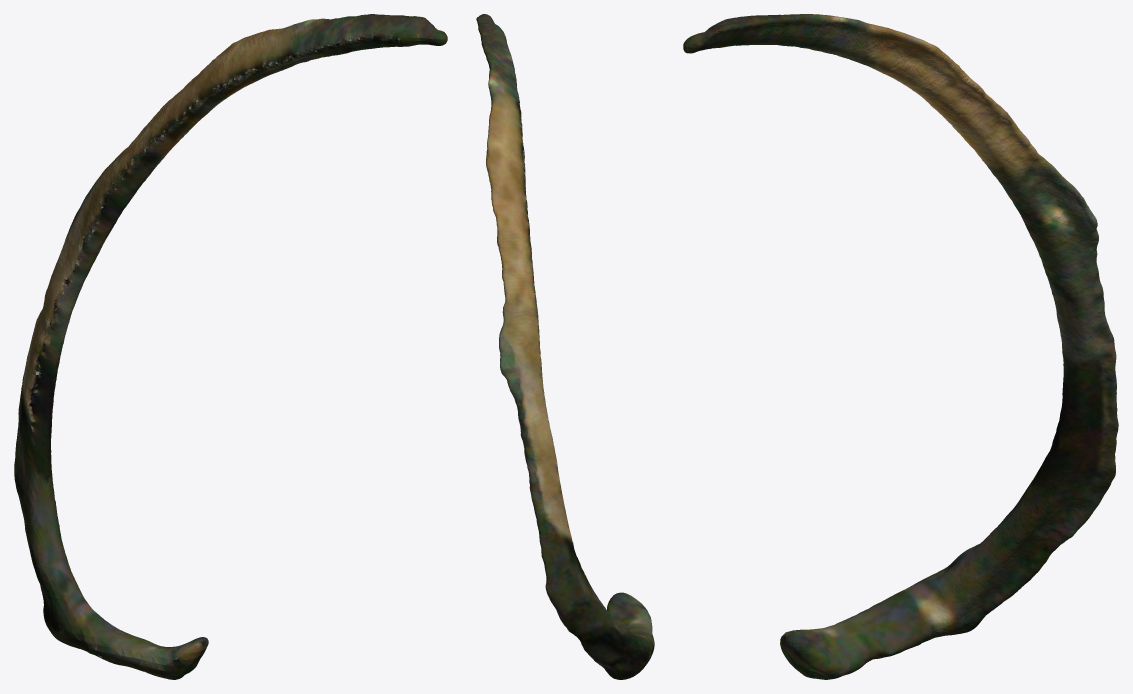
File: 5r_ribs.glb
3 renders of one model, left to right at view 1: azimuth 30°, elevation 25°; view 2: azimuth 150°, elevation 25°; view 3: azimuth 270°, elevation 25°, orthographic. The views are drawn at different scales.
Visible parts, largest first — view 1: Node; view 2: Node; view 3: Node.
Boxes of the visible parts, x1=… form: Node: x1=14, y1=14, x2=447, y2=679; Node: x1=476, y1=14, x2=654, y2=679; Node: x1=683, y1=14, x2=1118, y2=679.
Bounding box in the file's own units: 24.38 × 50.92 × 25.98.
Materials: 1 (1 with a texture image).
